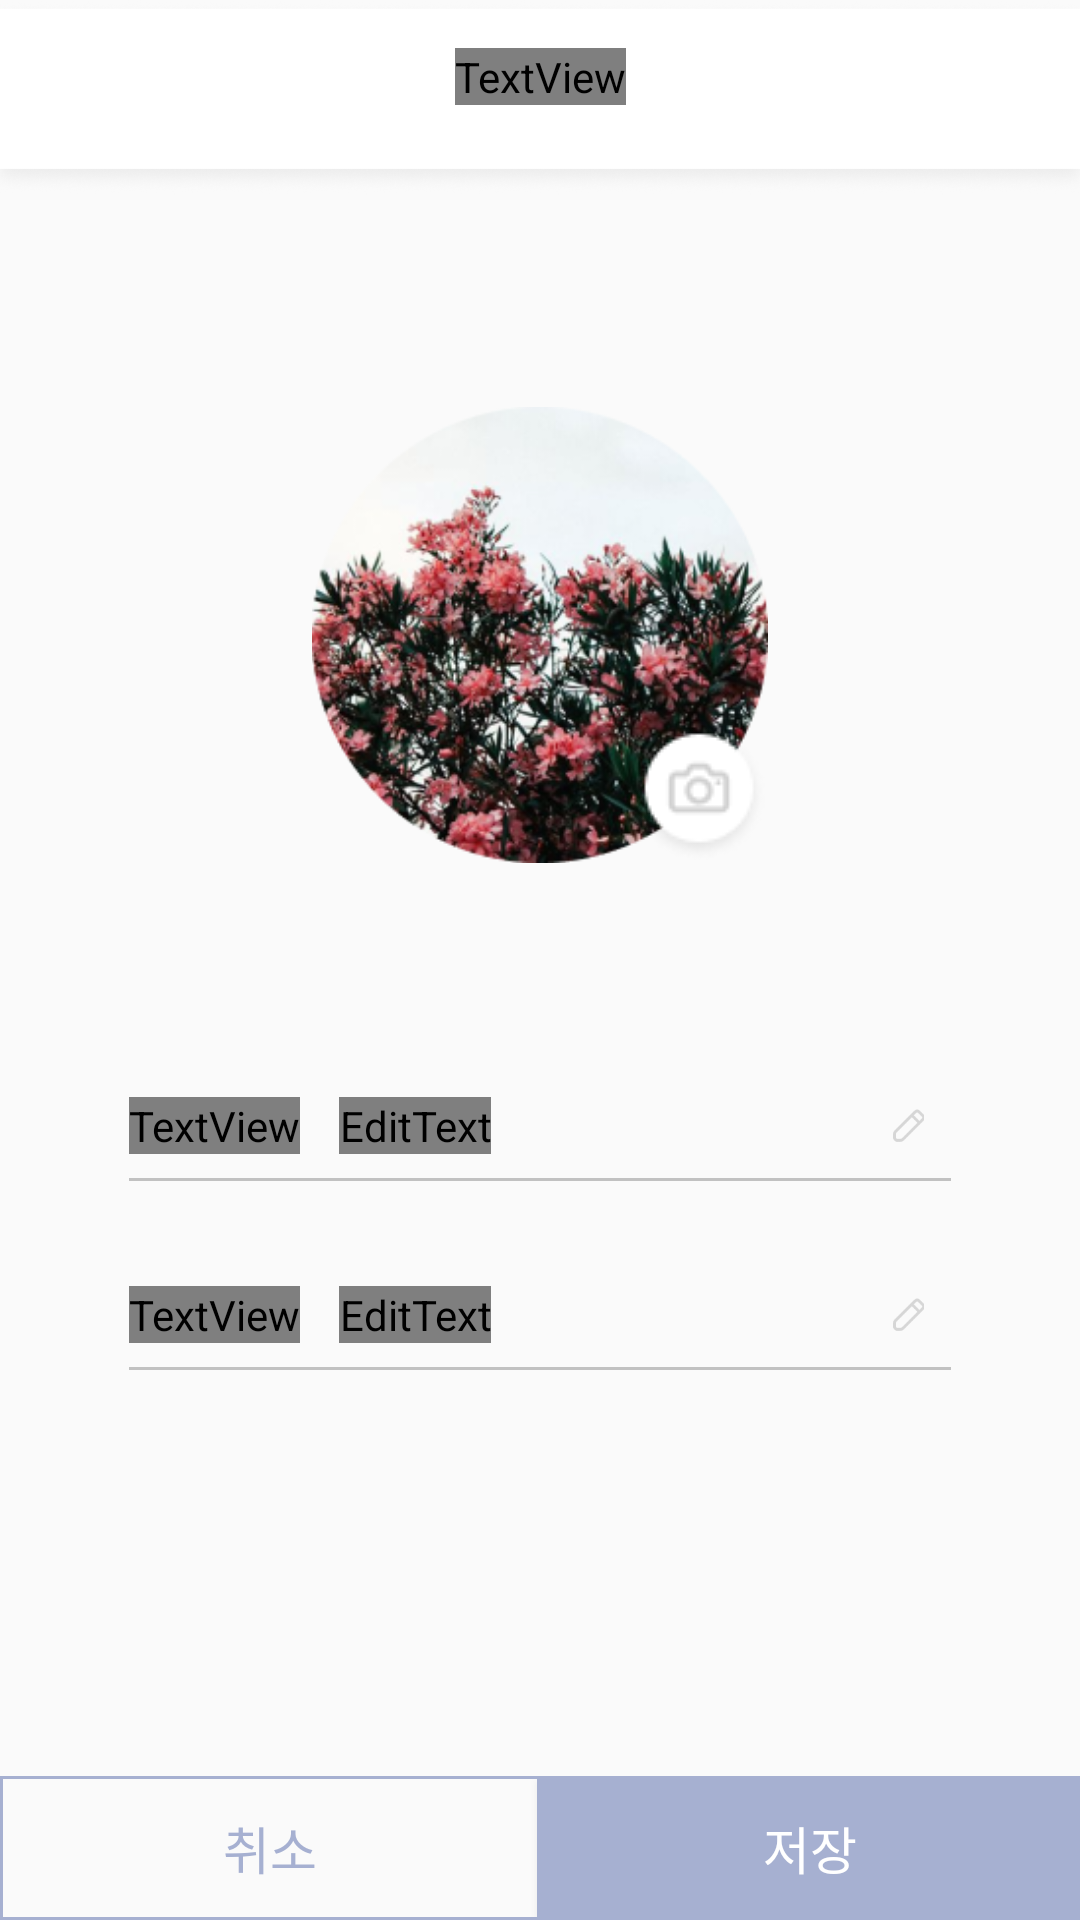

Icons on this 1080 × 1920 Android screen, each with the point to tap as (x,y):
pencil: (908,1126), (908,1315)
